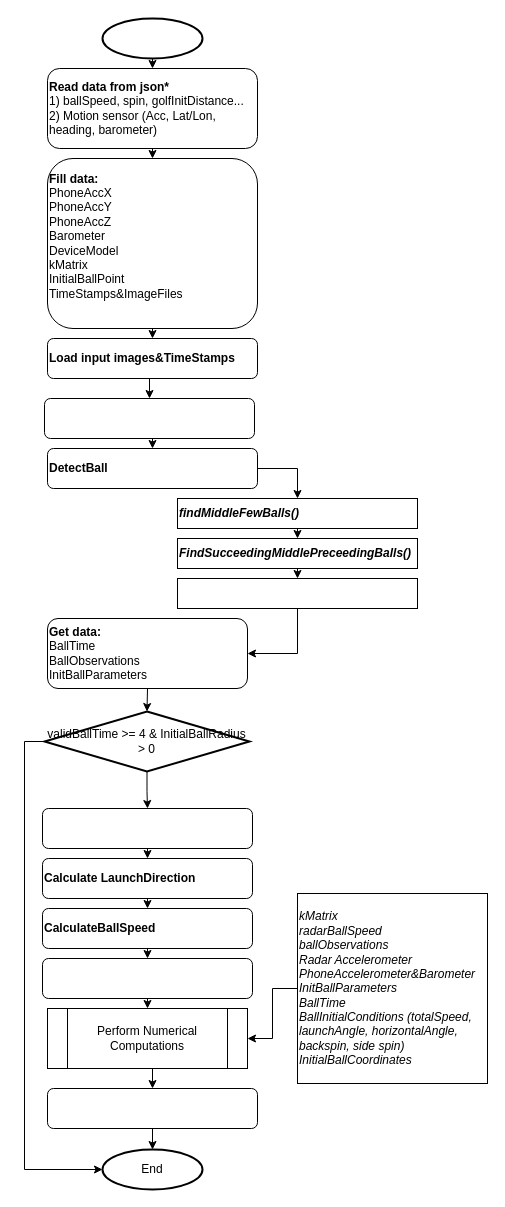
Some shapes in this 505 by 1207 pixel diagram are drawn without their labels. Each missing label, with the box of its shape:
Calculate InputGravityDirection: (44, 398, 254, 438)
Calculate LaunchAngle: (42, 808, 252, 848)
FindInitialBall(): (176, 578, 418, 608)
Get Carry&Trace: (46, 1088, 258, 1128)
Obtain RadarBallSpeed: (42, 958, 252, 998)
Start: (101, 17, 203, 59)
